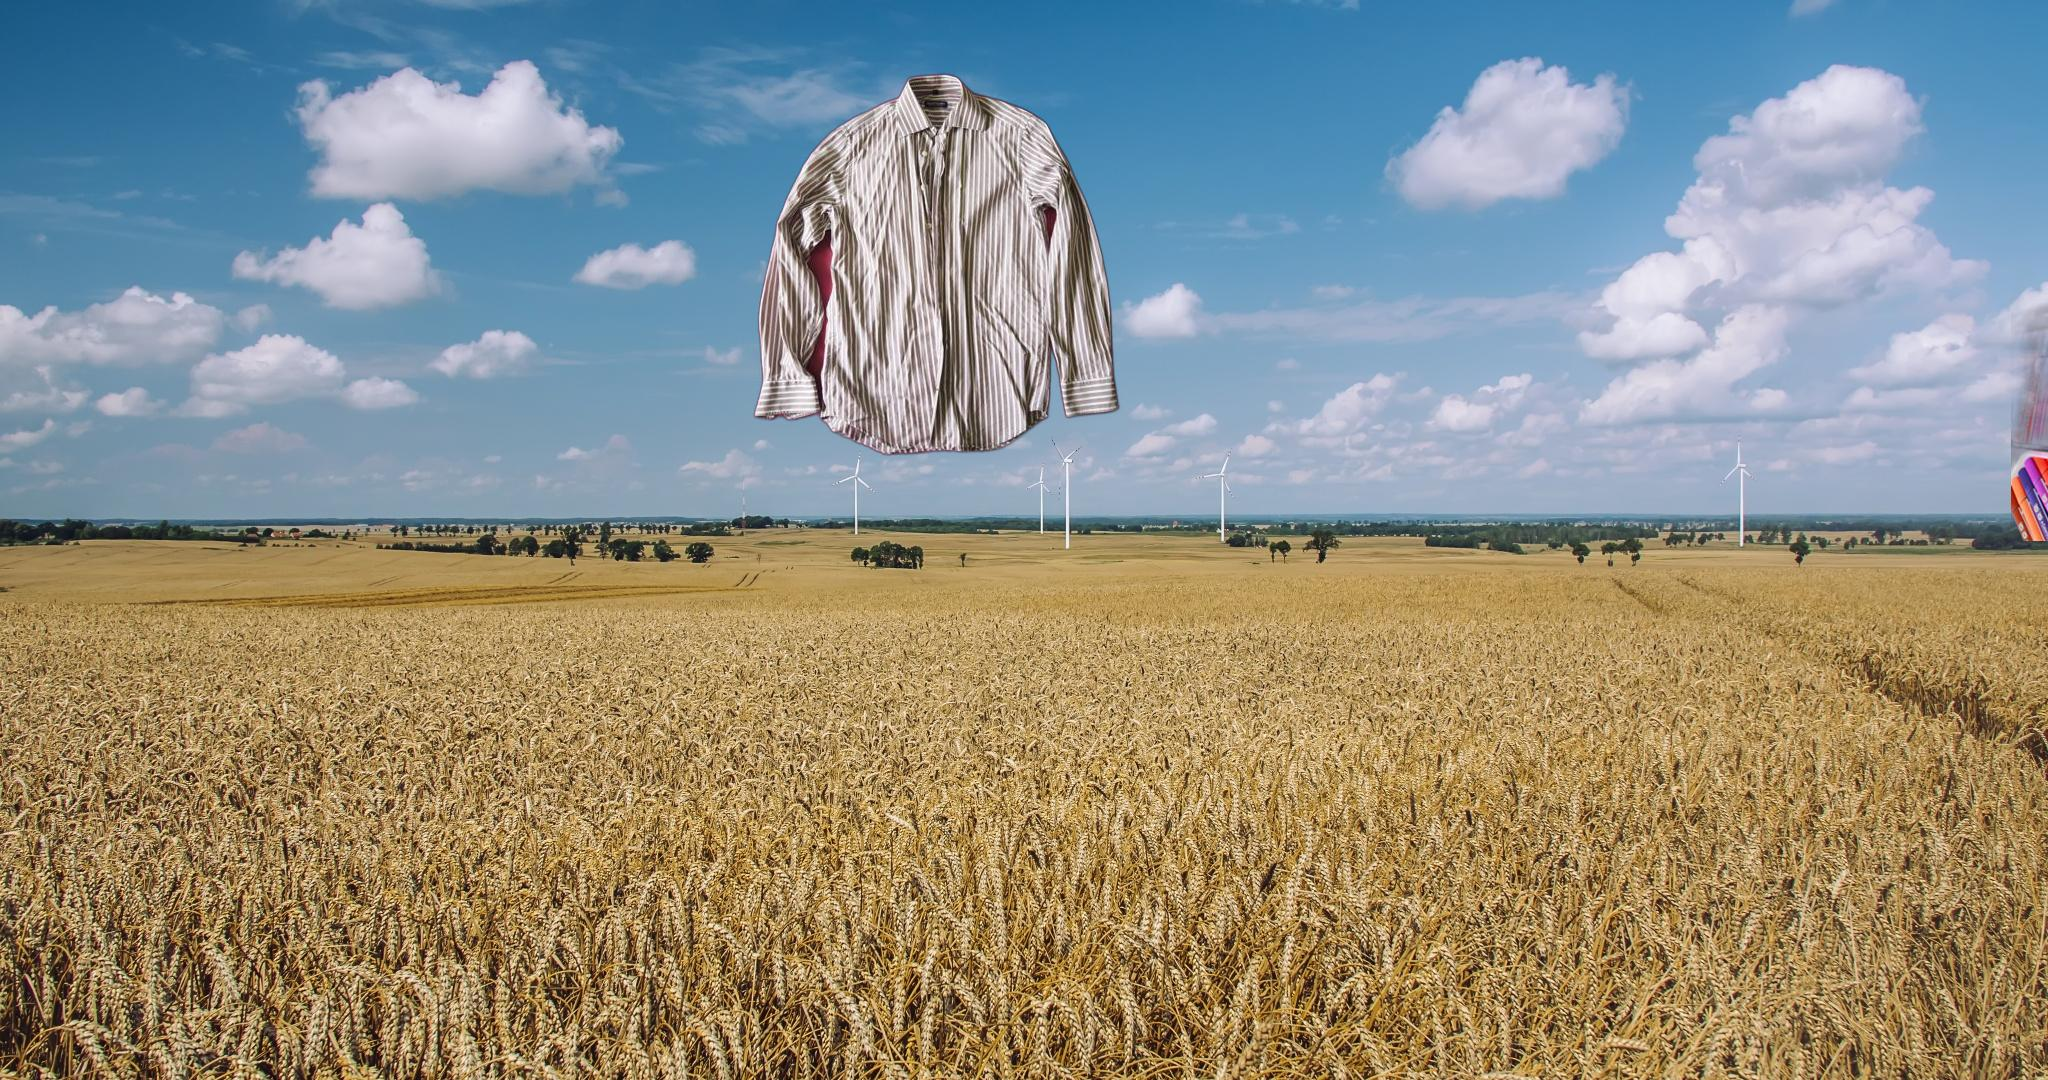clothes: (750, 70, 1122, 459)
penholder: (2011, 230, 2048, 541)
